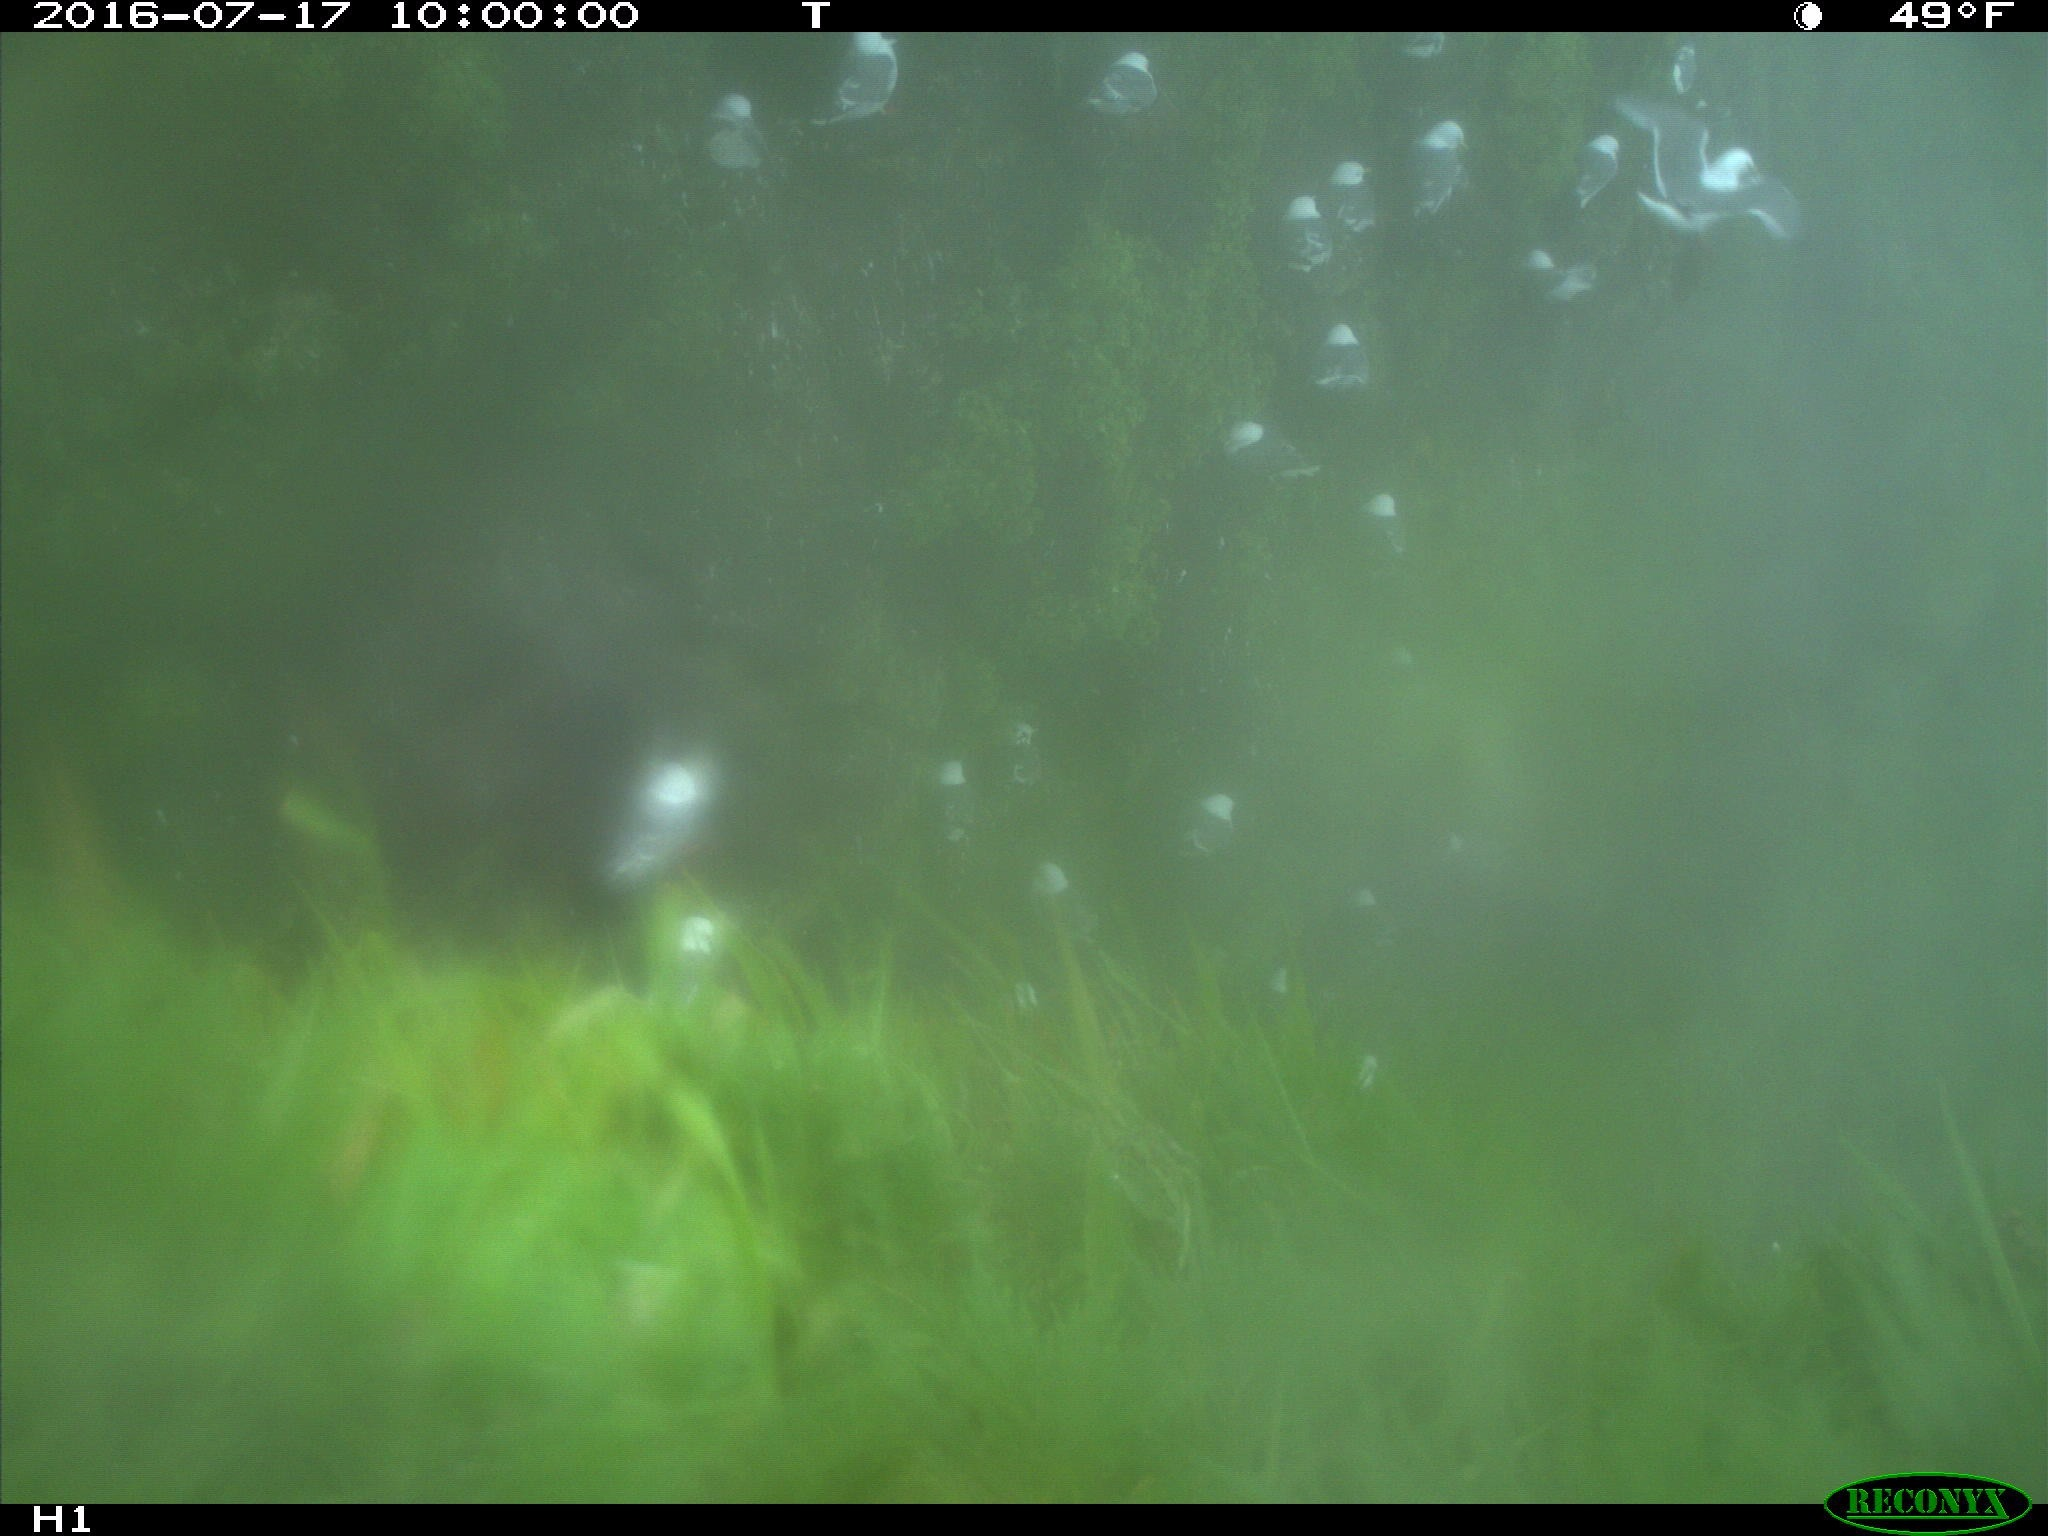Kittiwake: (1605, 60, 1811, 252), (566, 728, 747, 902), (793, 16, 947, 144), (1182, 394, 1337, 500), (1058, 37, 1192, 134), (1292, 298, 1401, 408), (664, 73, 784, 169), (1390, 113, 1488, 223), (1514, 234, 1624, 326), (1537, 108, 1622, 223), (1013, 834, 1095, 952), (1350, 482, 1450, 579), (1163, 778, 1247, 892), (1259, 176, 1342, 287), (1301, 145, 1393, 244), (927, 752, 993, 862), (997, 708, 1071, 805), (1376, 24, 1496, 68)
